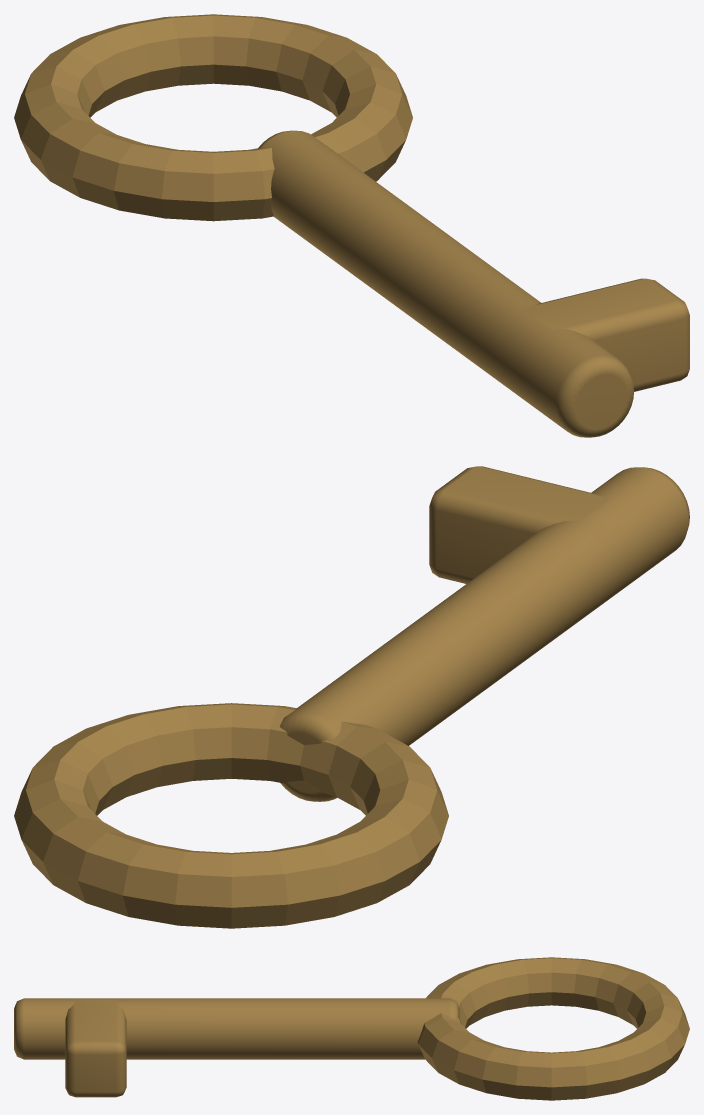
File: Pickup_ExitKey.fbx
The picture shows the model from 3 angles, top to bottom: view 1: azimuth 30°, elevation 25°; view 2: azimuth 150°, elevation 25°; view 3: azimuth 270°, elevation 25°; orthographic projection. The views are drawn at different scales.
Parts seen in each view (by area): view 1: Key bow.003, Key shaft.003, Key tooth.003; view 2: Key bow.003, Key shaft.003, Key tooth.003; view 3: Key bow.003, Key shaft.003, Key tooth.003.
Boxes of the visible parts, x1,y1,x2,y2 form: Key bow.003: [14, 14, 412, 221]; Key shaft.003: [258, 130, 633, 437]; Key tooth.003: [524, 278, 689, 391]; Key bow.003: [14, 703, 448, 928]; Key shaft.003: [279, 467, 689, 801]; Key tooth.003: [429, 466, 610, 583]; Key bow.003: [417, 957, 689, 1100]; Key shaft.003: [14, 998, 459, 1059]; Key tooth.003: [65, 1000, 126, 1097].
Bounding box in the file's own units: 0.054 × 0.012 × 0.132.
